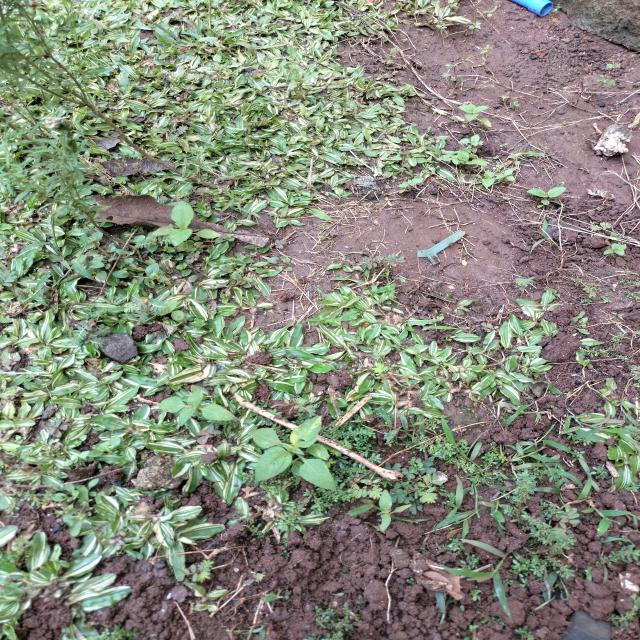akar wangi: (0, 111, 113, 223), (0, 0, 92, 107)
buah daun: (74, 310, 112, 350), (123, 294, 170, 326), (172, 555, 220, 585), (548, 504, 580, 544), (359, 250, 406, 276), (350, 474, 385, 502), (414, 474, 444, 506), (594, 61, 624, 90), (44, 416, 70, 440), (165, 124, 194, 144)
clover: (415, 460, 439, 474), (400, 465, 419, 480), (389, 488, 407, 503), (407, 502, 426, 516), (382, 460, 402, 472)
lumut besar: (405, 432, 511, 491), (294, 589, 364, 640), (506, 468, 550, 538), (506, 550, 576, 590), (588, 541, 640, 582), (323, 419, 383, 446), (301, 484, 355, 513), (607, 588, 640, 634), (280, 507, 308, 529), (459, 550, 484, 574), (445, 541, 467, 559), (468, 576, 484, 600)
rambat atas: (437, 536, 512, 620), (507, 425, 577, 461), (440, 415, 483, 471), (563, 413, 639, 442), (581, 500, 633, 537), (432, 508, 479, 542), (492, 398, 547, 427), (542, 461, 584, 489), (507, 446, 565, 464), (445, 472, 464, 521), (576, 454, 594, 500)
rambat bawah: (132, 0, 295, 60)
tunggang besar: (249, 411, 343, 494), (150, 384, 238, 430), (150, 196, 223, 250), (375, 489, 413, 532), (457, 101, 493, 130), (524, 185, 568, 208), (604, 241, 629, 259)
